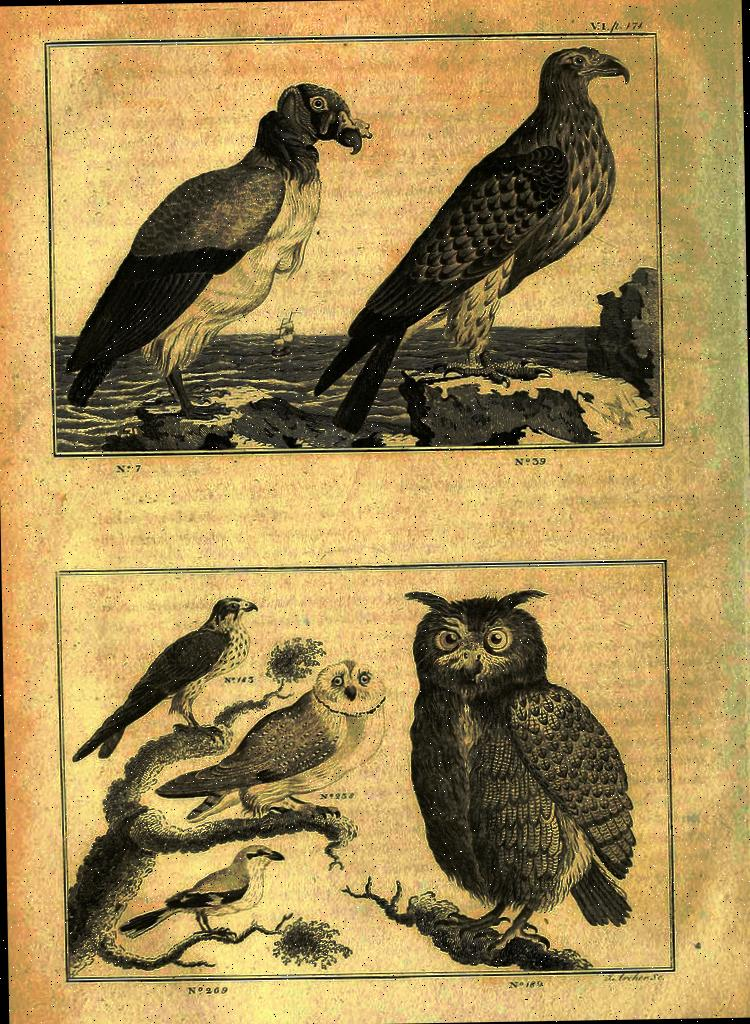Owl: (398, 584, 640, 948), (152, 652, 393, 829)
